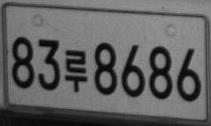3: (37, 38, 60, 91)
6: (120, 44, 145, 98), (176, 48, 201, 102)
8: (93, 41, 118, 96), (148, 44, 173, 99), (11, 35, 35, 88)
루: (64, 49, 87, 93)
